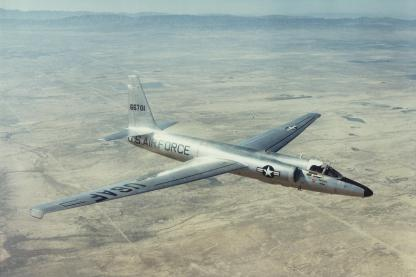Tu160: (29, 73, 373, 218)
